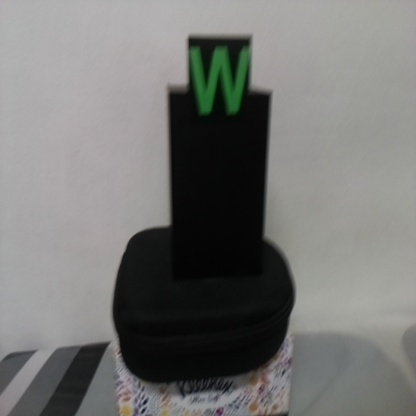id_12: (188, 36, 251, 124)
